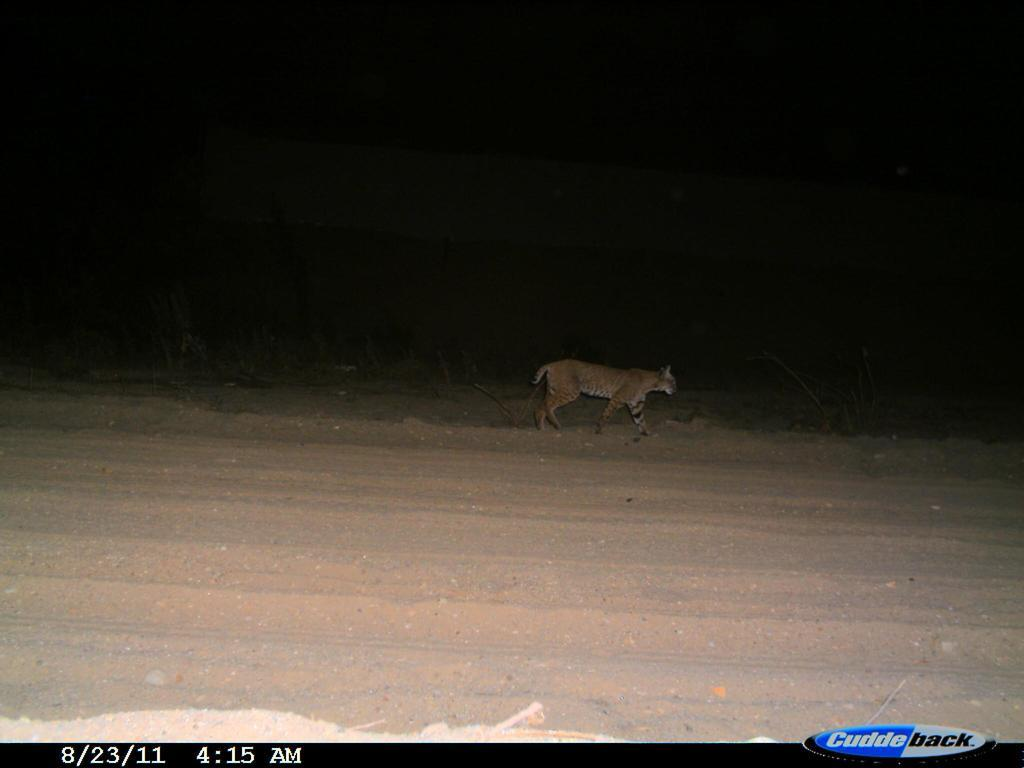bobcat: (527, 349, 689, 445)
